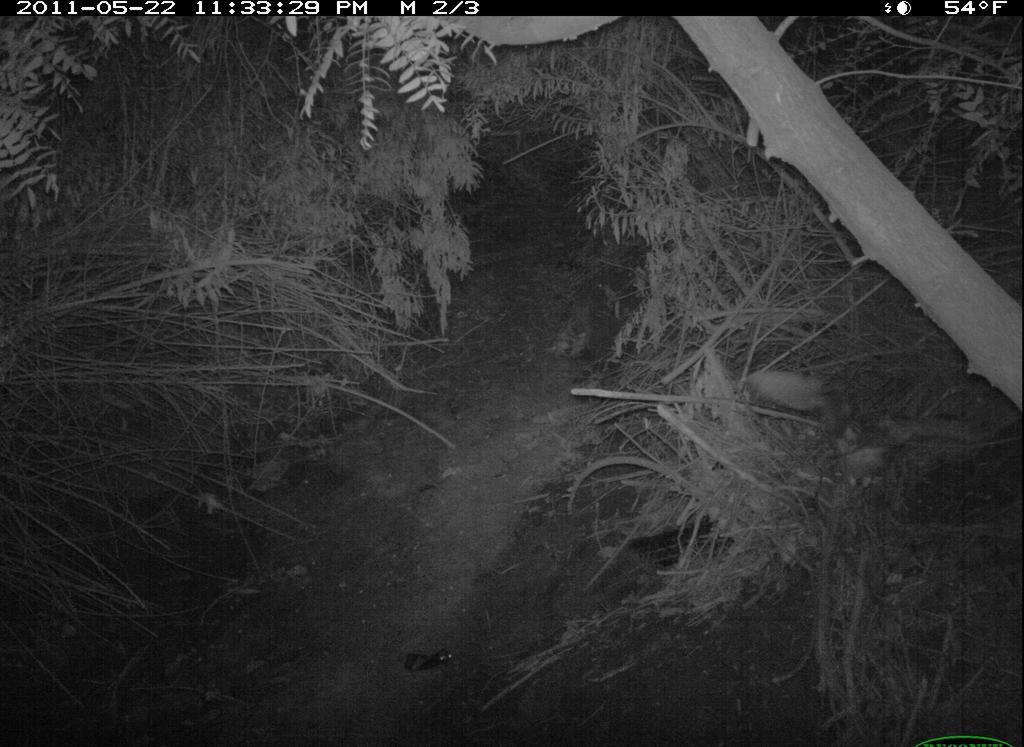bird: (734, 344, 932, 486)
